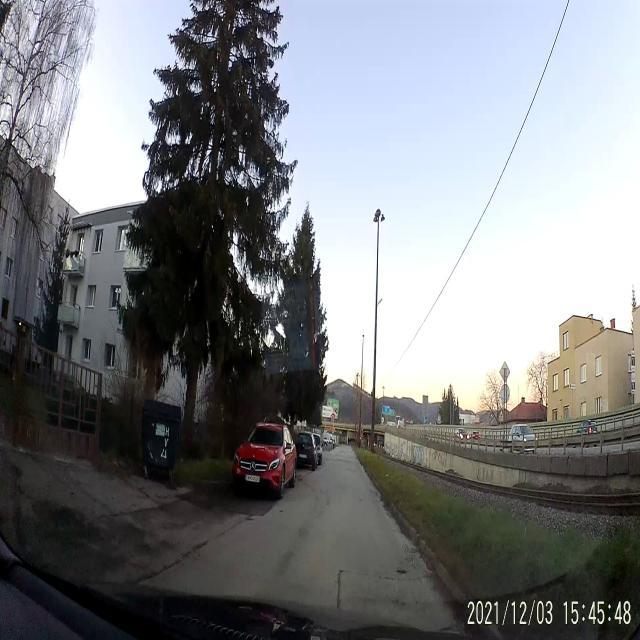Pothole: (393, 561, 408, 577)
